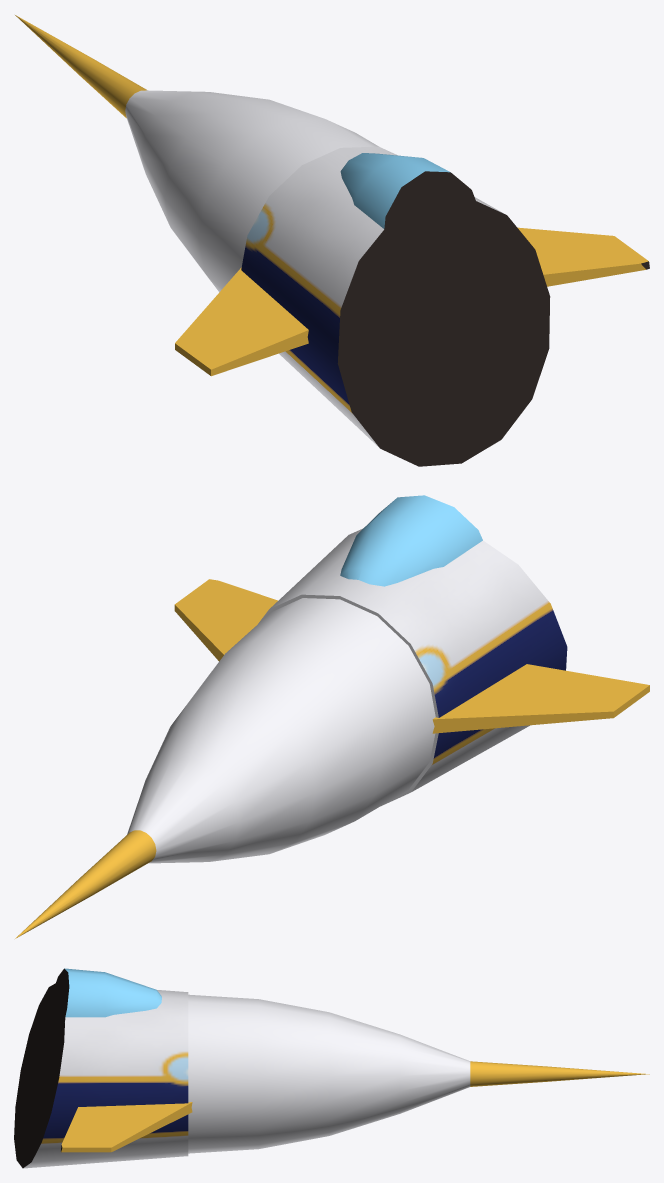
Rendered from senate_patrol_debris1.obj.
3 views of the same model, one above another, from view 1: azimuth 30°, elevation 25°; view 2: azimuth 150°, elevation 25°; view 3: azimuth 270°, elevation 25° (orthographic). The views are drawn at different scales.
Visible parts, largest first — view 1: hull, canopy, canard_l, canard_r; view 2: hull, canard_l, canopy, canard_r; view 3: hull, canopy, canard_r.
Part boxes in pixels (bbox=[...]): hull: bbox=[15, 15, 550, 466]; canopy: bbox=[340, 153, 481, 302]; canard_l: bbox=[175, 267, 308, 376]; canard_r: bbox=[518, 227, 649, 286]; hull: bbox=[15, 528, 567, 938]; canard_l: bbox=[432, 664, 649, 733]; canopy: bbox=[340, 495, 482, 586]; canard_r: bbox=[174, 579, 277, 661]; hull: bbox=[14, 983, 649, 1168]; canopy: bbox=[44, 968, 161, 1053]; canard_r: bbox=[61, 1102, 192, 1152].
Bounding box in the file's own units: 2.8 × 1.62 × 4.96.
5 materials, 1 textured.
